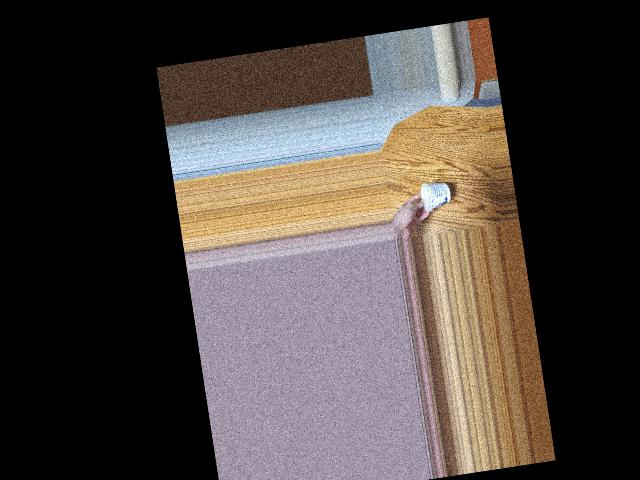cotage: (417, 180, 451, 214)
